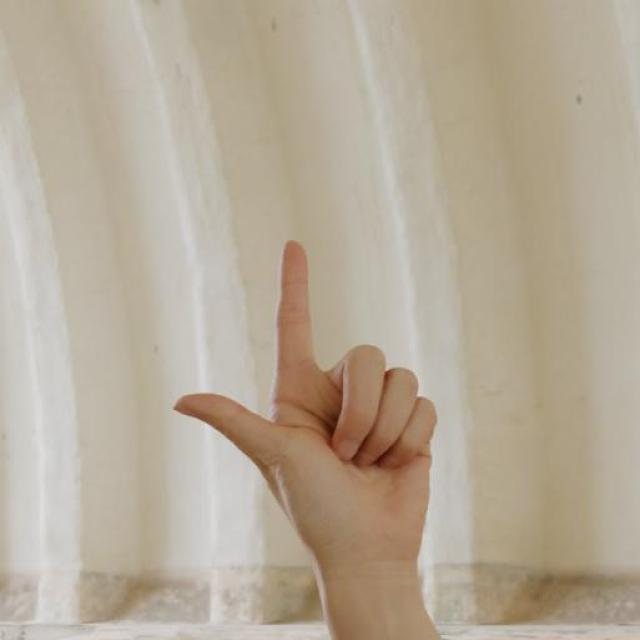L: (172, 235, 440, 546)
